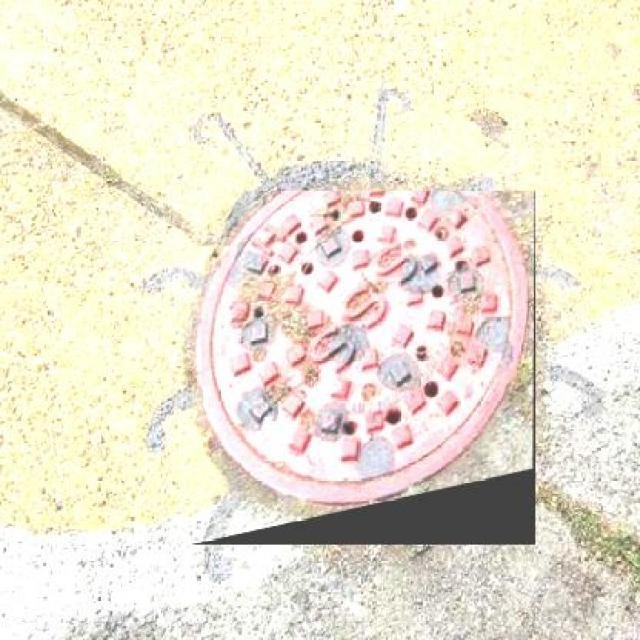Manhole: (192, 190, 536, 544)
